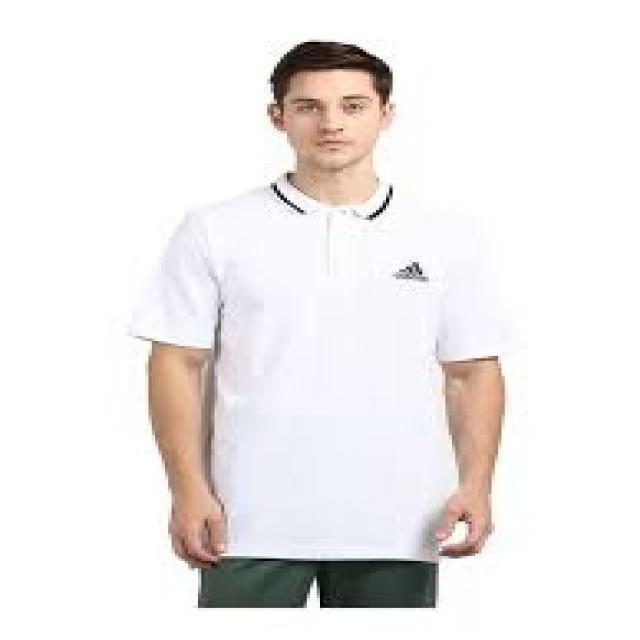Adidas: (397, 257, 432, 286)
